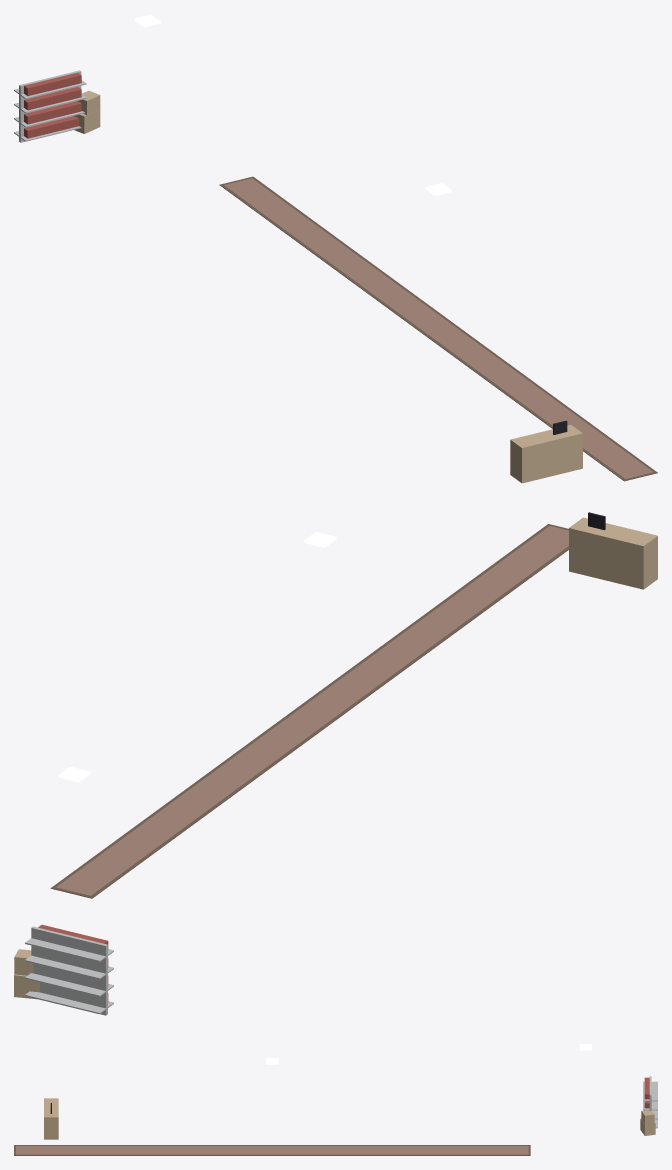
The model's file is fine-s0.glb.
3 views of the same model, one above another, from view 1: azimuth 30°, elevation 25°; view 2: azimuth 150°, elevation 25°; view 3: azimuth 270°, elevation 25° (orthographic). The views are drawn at different scales.
Visible parts, largest first — view 1: soft-s0, shelving.000, shop-counter.000, cardboard-box.000; view 2: soft-s0, shelving.000, shop-counter.000, cardboard-box.000; view 3: soft-s0, shop-counter.000, shelving.000, cardboard-box.000.
Boxes of the visible parts, x1,y1,x2,y2 form: soft-s0: (219, 176, 657, 481); shelving.000: (14, 70, 86, 142); shop-counter.000: (510, 420, 582, 483); cardboard-box.000: (74, 90, 100, 133); soft-s0: (50, 524, 568, 898); shelving.000: (25, 924, 113, 1015); shop-counter.000: (569, 512, 657, 589); cardboard-box.000: (14, 949, 39, 999); soft-s0: (14, 1145, 530, 1155); shop-counter.000: (44, 1098, 58, 1139); shelving.000: (643, 1076, 657, 1128); cardboard-box.000: (640, 1110, 655, 1135).
Bounding box in the file's own units: 4.13 × 3.97 × 25.86.
